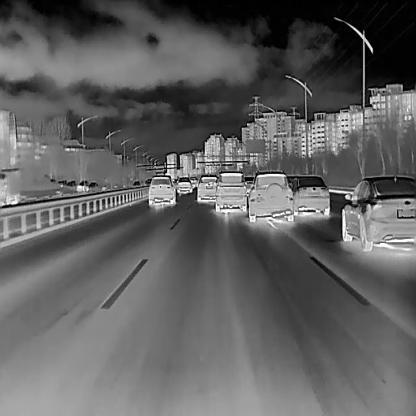car: (341, 175, 416, 251), (246, 169, 293, 221), (288, 173, 330, 215), (214, 169, 248, 212), (147, 174, 176, 206), (197, 173, 219, 202), (176, 174, 192, 193), (85, 180, 99, 193), (77, 179, 89, 191), (189, 174, 198, 188), (143, 176, 153, 187), (131, 179, 142, 187)
